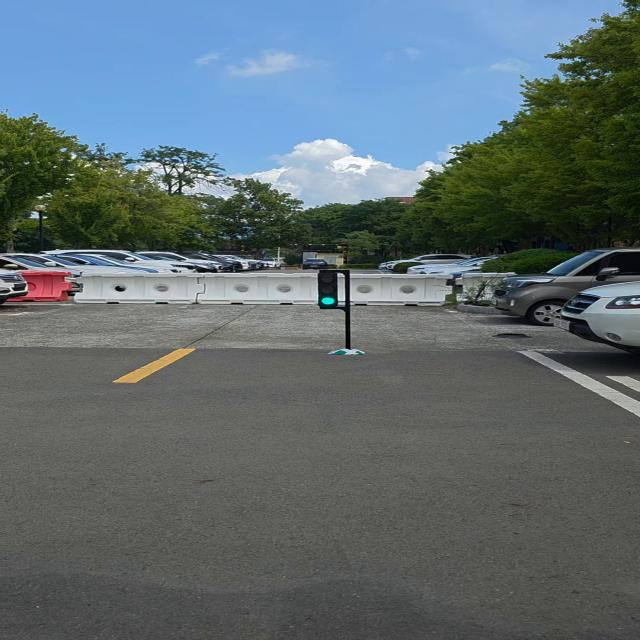green: (317, 268, 342, 310)
